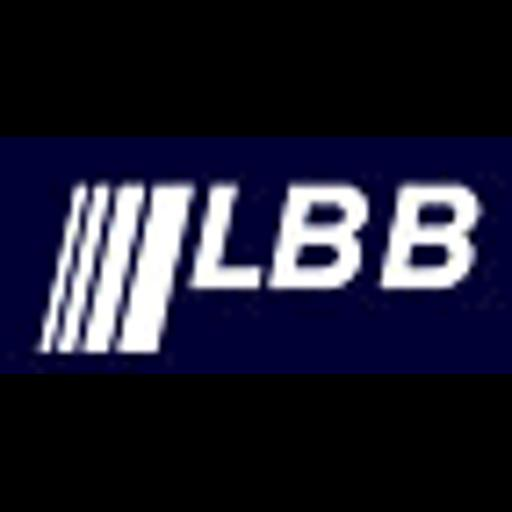Landesbank Berlin AG: (0, 137, 512, 374)
